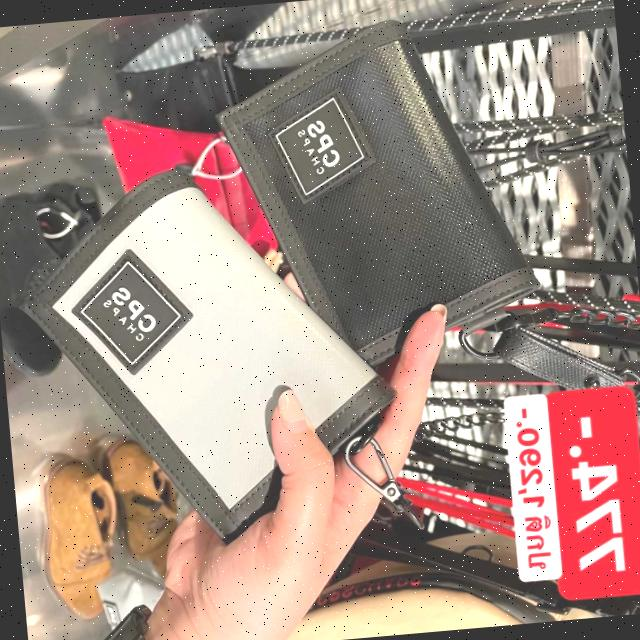Handbag: (6, 140, 426, 566)
